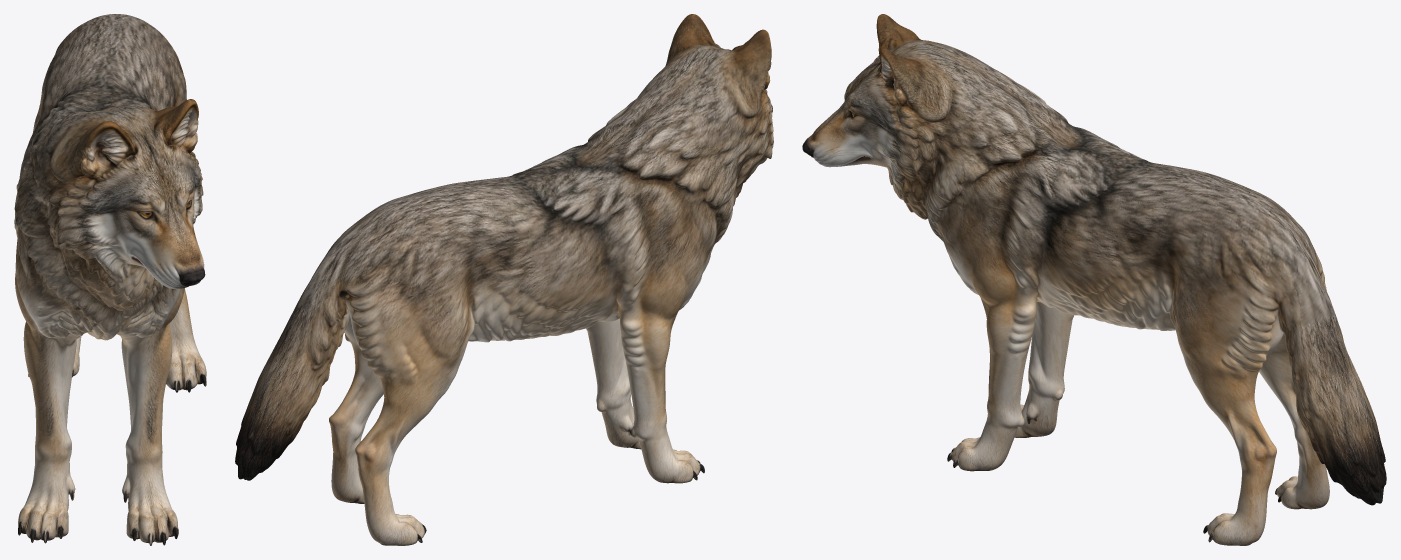
File: wolf.glb
3 renders of one model, left to right at view 1: azimuth 30°, elevation 25°; view 2: azimuth 150°, elevation 25°; view 3: azimuth 270°, elevation 25°, orthographic. The views are drawn at different scales.
Visible parts, largest first — view 1: wolf; view 2: wolf; view 3: wolf.
Part boxes in pixels (x1=…): wolf: x1=14, y1=14, x2=206, y2=545; wolf: x1=235, y1=14, x2=773, y2=545; wolf: x1=802, y1=14, x2=1386, y2=545.
Bounding box in the file's own units: 1.1 × 1.31 × 1.7.
1 material, 1 textured.
